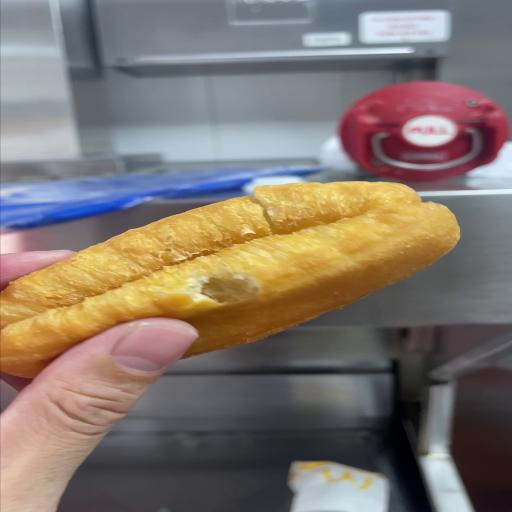brand_golden_defect: (0, 182, 459, 378)
